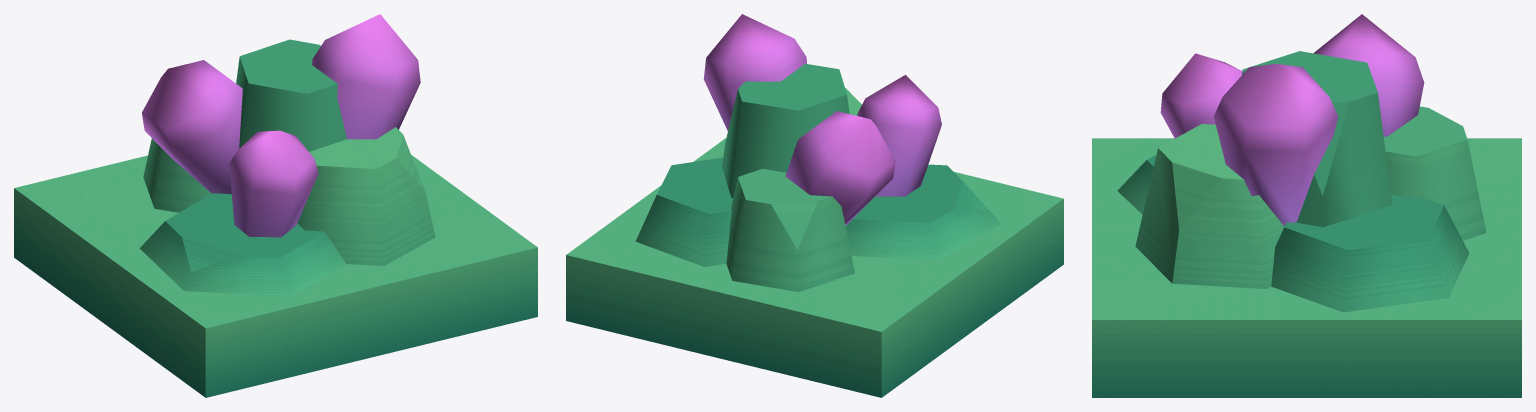
The model's file is tile-crystal.glb.
The picture shows the model from 3 angles, left to right: view 1: azimuth 30°, elevation 25°; view 2: azimuth 150°, elevation 25°; view 3: azimuth 270°, elevation 25°; orthographic projection. The views are drawn at different scales.
Parts seen in each view (by area): view 1: tile-crystal; view 2: tile-crystal; view 3: tile-crystal.
Boxes of the visible parts, bbox=[...] form: tile-crystal: bbox=[14, 14, 537, 397]; tile-crystal: bbox=[566, 14, 1063, 397]; tile-crystal: bbox=[1092, 14, 1521, 397].
Size of the model in its own units: 1 by 0.7518 by 1.
Materials: 1 (1 with a texture image).
